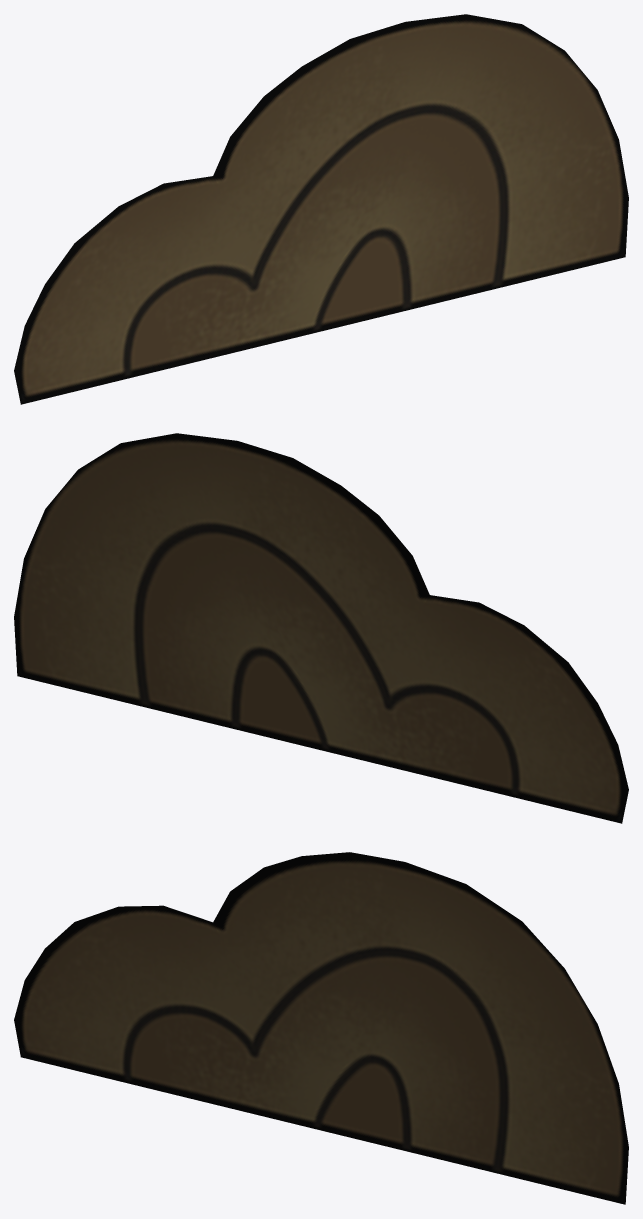
Rendered from bushB.fbx.
3 renders of one model, top to bottom at view 1: azimuth 30°, elevation 25°; view 2: azimuth 150°, elevation 25°; view 3: azimuth 330°, elevation 25°, orthographic.
Parts seen in each view (by area): view 1: bushB_; view 2: bushB_; view 3: bushB_.
Boxes of the visible parts, box(x1,y1,x2,y2) form: bushB_: box(14, 14, 628, 404); bushB_: box(14, 433, 628, 823); bushB_: box(14, 852, 628, 1204).
Size of the model in its own units: 110 by 49.63 by 9.54e-06.
